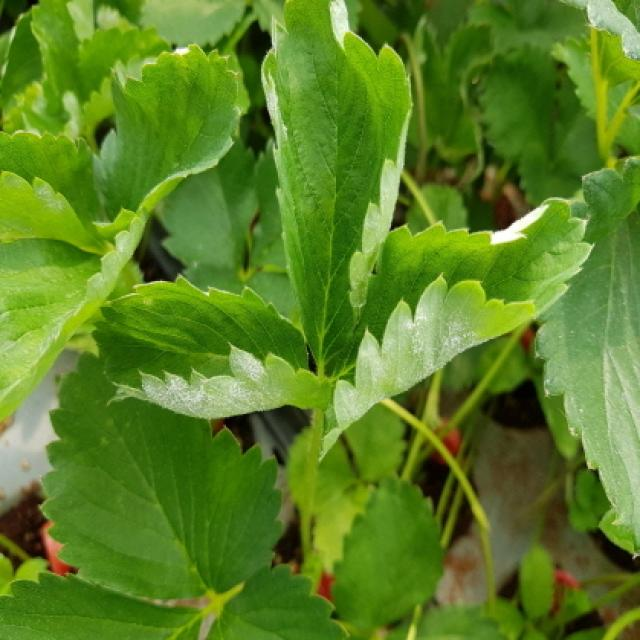Powdery Mildew Leaf: (318, 198, 596, 464), (261, 0, 415, 374), (88, 271, 330, 419)
